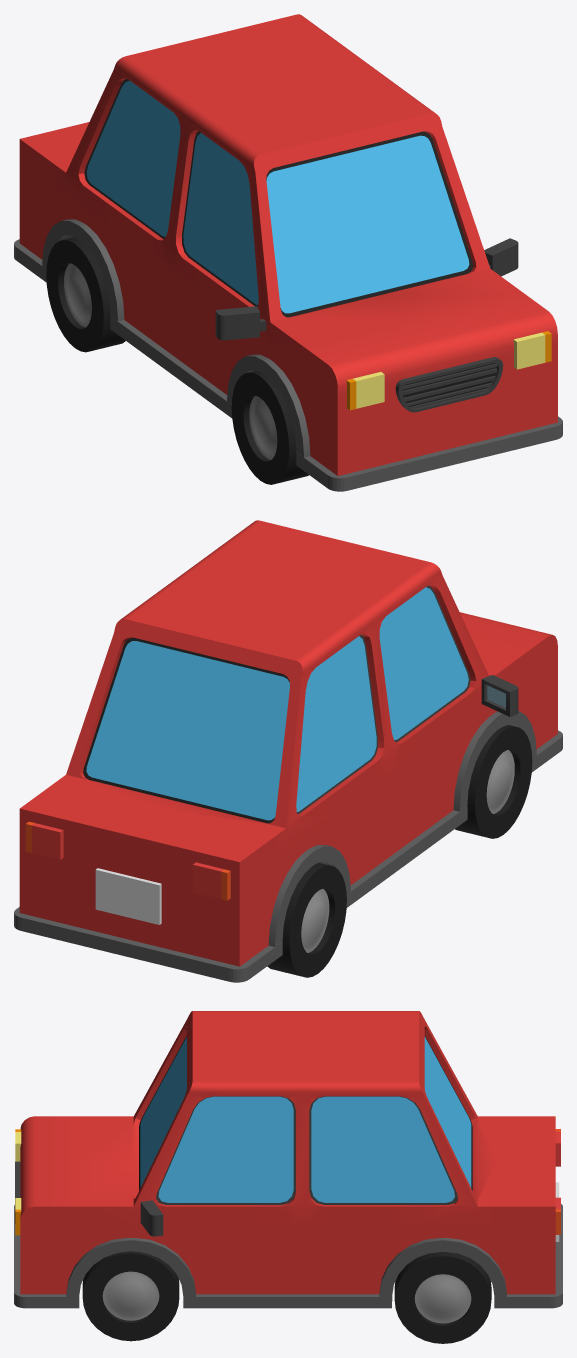
The model's file is oncoming_automobile.glb.
The picture shows the model from 3 angles, top to bottom: view 1: azimuth 30°, elevation 25°; view 2: azimuth 150°, elevation 25°; view 3: azimuth 270°, elevation 25°; orthographic projection. The views are drawn at different scales.
Visible parts, largest first — view 1: Cube.679; view 2: Cube.679; view 3: Cube.679.
Boxes of the visible parts, x1,y1,x2,y2 form: Cube.679: [14, 14, 562, 491]; Cube.679: [14, 520, 562, 982]; Cube.679: [14, 1011, 562, 1343].
Size of the model in its own units: 1.82 by 1.71 by 3.44.
1 material, 1 textured.
